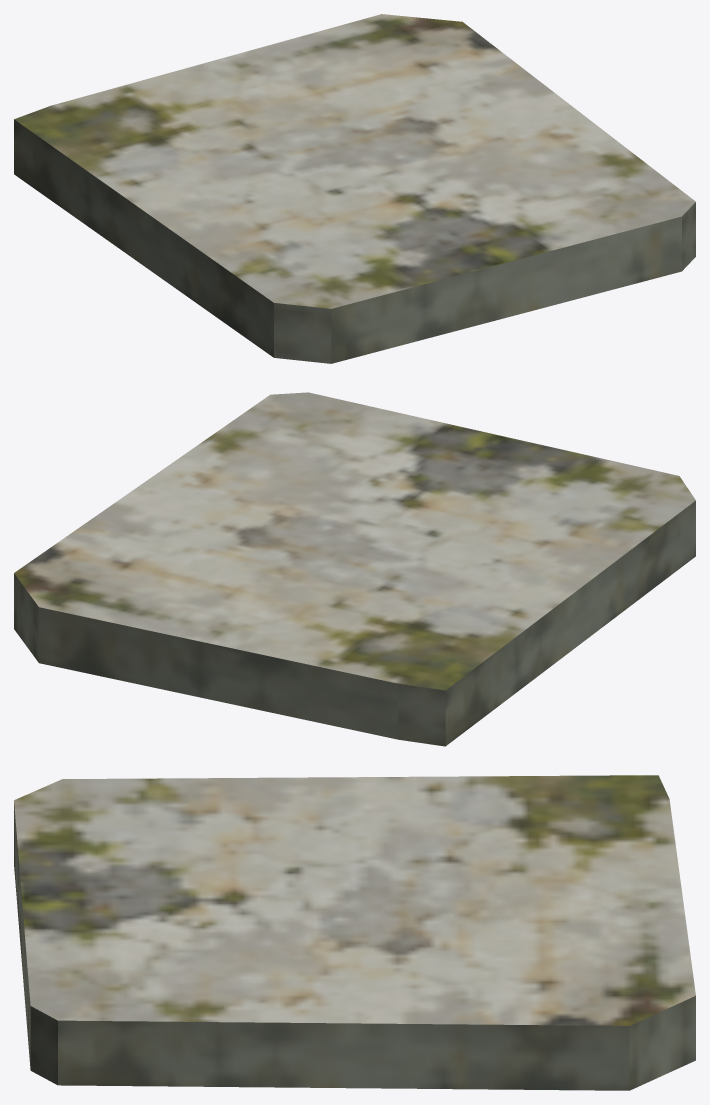
Rendered from Paving_Broken_C.glb.
3 views of the same model, one above another, from view 1: azimuth 30°, elevation 25°; view 2: azimuth 150°, elevation 25°; view 3: azimuth 270°, elevation 25° (orthographic). The views are drawn at different scales.
Parts seen in each view (by area): view 1: Paving_Broken_C; view 2: Paving_Broken_C; view 3: Paving_Broken_C.
Boxes of the visible parts, x1,y1,x2,y2 form: Paving_Broken_C: (14, 14, 695, 363); Paving_Broken_C: (14, 392, 695, 746); Paving_Broken_C: (14, 775, 695, 1090).
Size of the model in its own units: 0.664 by 0.08 by 0.7629.
Materials: 1 (1 with a texture image).
